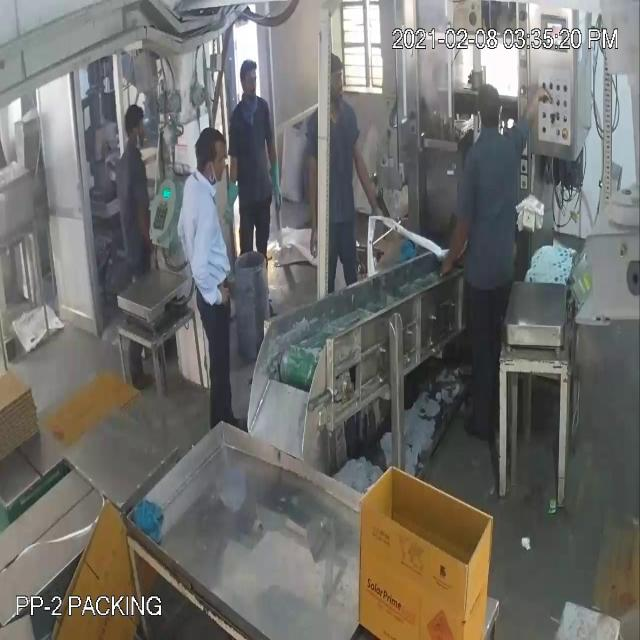gloves: (264, 137, 289, 242), (221, 164, 245, 234)
no-gloves: (340, 132, 388, 238), (430, 193, 470, 285), (518, 70, 558, 140), (195, 252, 233, 318), (303, 149, 321, 271), (128, 197, 156, 265)
